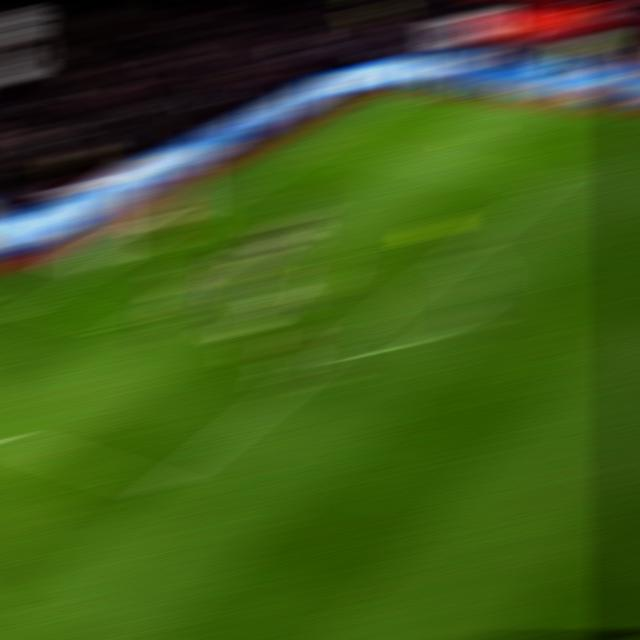bigarea_bottom_inner: (135, 471, 187, 505)
bigarea_top_inner: (528, 172, 572, 196)
bigarea_top_outter: (307, 138, 347, 152)
bottom_arc_area_intersection: (301, 346, 343, 372)
corner: (399, 88, 441, 100)
smallarea_bottom_inner: (95, 316, 144, 338)
smallarea_bottom_outter: (12, 294, 57, 316)
smallarea_top_inner: (288, 201, 325, 220)
smallarea_top_outter: (212, 187, 256, 207)
top_arc_area_intersection: (438, 245, 479, 263)
